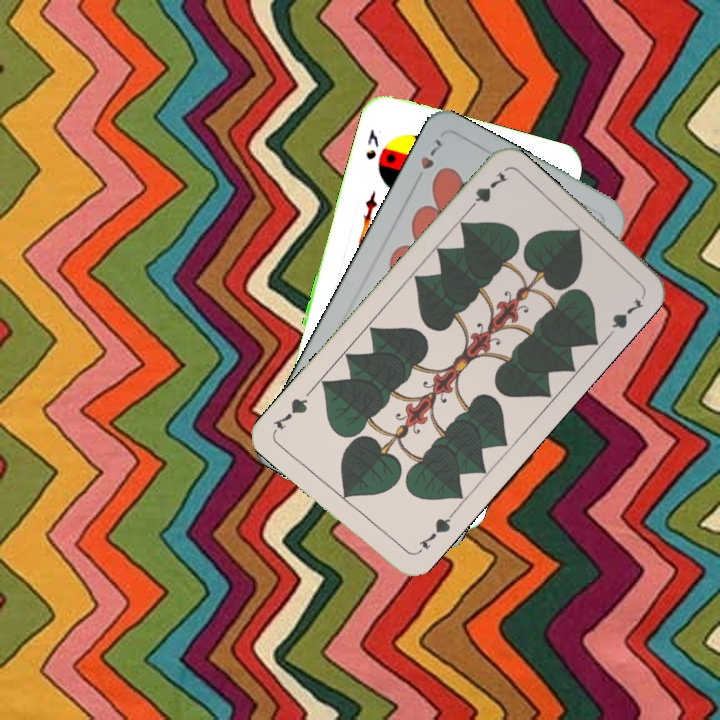G7: (462, 167, 511, 216), (411, 509, 456, 557)
H7: (412, 134, 445, 188)
SK: (361, 124, 382, 163)
